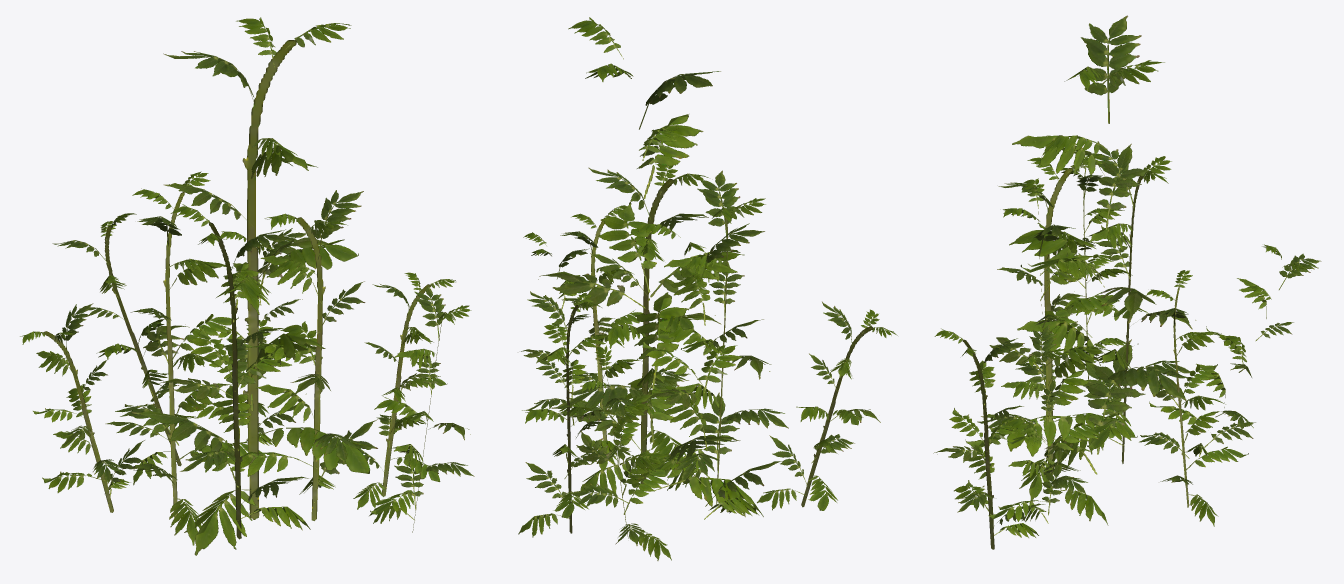
Rendered from grass_04.glb.
The picture shows the model from 3 angles, left to right: view 1: azimuth 30°, elevation 25°; view 2: azimuth 150°, elevation 25°; view 3: azimuth 270°, elevation 25°; orthographic projection. The views are drawn at different scales.
Parts seen in each view (by area): view 1: Object_2; view 2: Object_2; view 3: Object_2.
Part boxes in pixels (box(x1,y1,x2,y2)): Object_2: box(20, 17, 474, 555); Object_2: box(518, 17, 897, 560); Object_2: box(933, 15, 1321, 549).
Bounding box in the file's own units: 2.31 × 2.82 × 2.02.
1 material, 1 textured.
